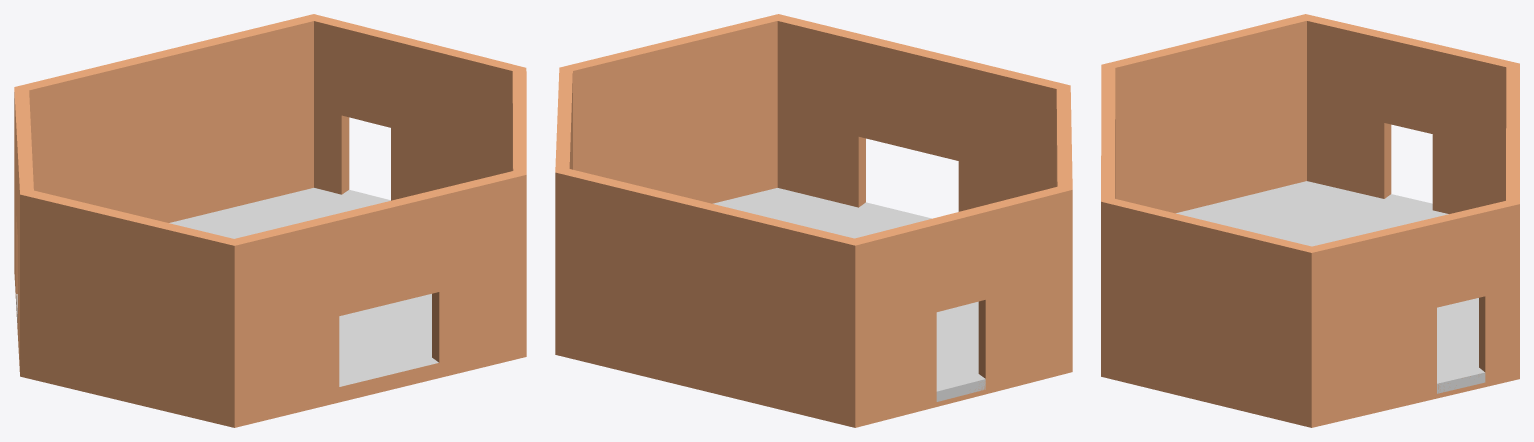
Rendered from RECEP.fbx.
3 renders of one model, left to right at view 1: azimuth 30°, elevation 25°; view 2: azimuth 150°, elevation 25°; view 3: azimuth 270°, elevation 25°, orthographic. The views are drawn at different scales.
Parts seen in each view (by area): view 1: RECEPCION, RECEPCION.001; view 2: RECEPCION, RECEPCION.001; view 3: RECEPCION, RECEPCION.001.
Boxes of the visible parts, box(x1,y1,x2,y2) form: RECEPCION: box(14, 14, 526, 427); RECEPCION.001: box(16, 188, 438, 386); RECEPCION: box(555, 14, 1072, 427); RECEPCION.001: box(713, 188, 985, 401); RECEPCION: box(1101, 14, 1519, 427); RECEPCION.001: box(1176, 181, 1485, 393).
Bounding box in the file's own units: 7091 × 2422 × 5253.
